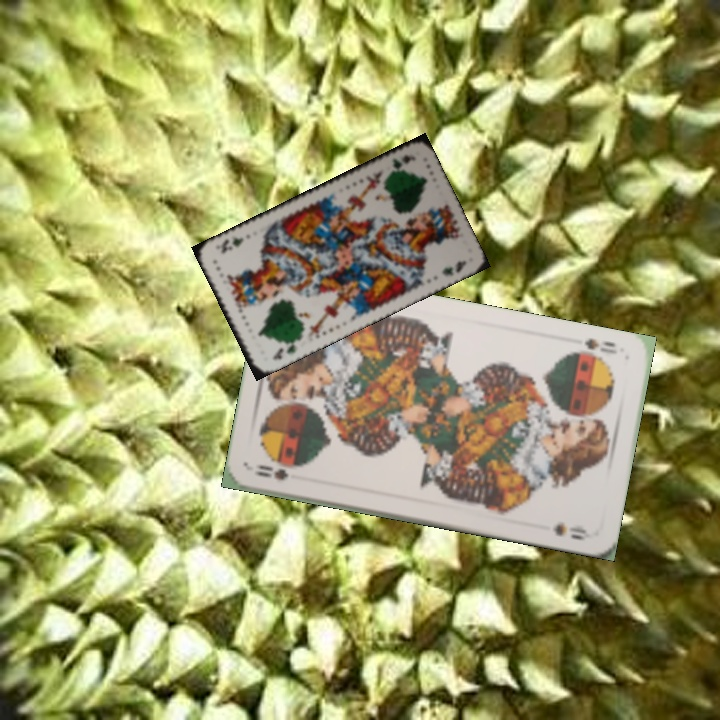GK: (384, 151, 418, 176), (269, 336, 299, 363)
SO: (251, 460, 291, 483), (580, 334, 620, 357)
